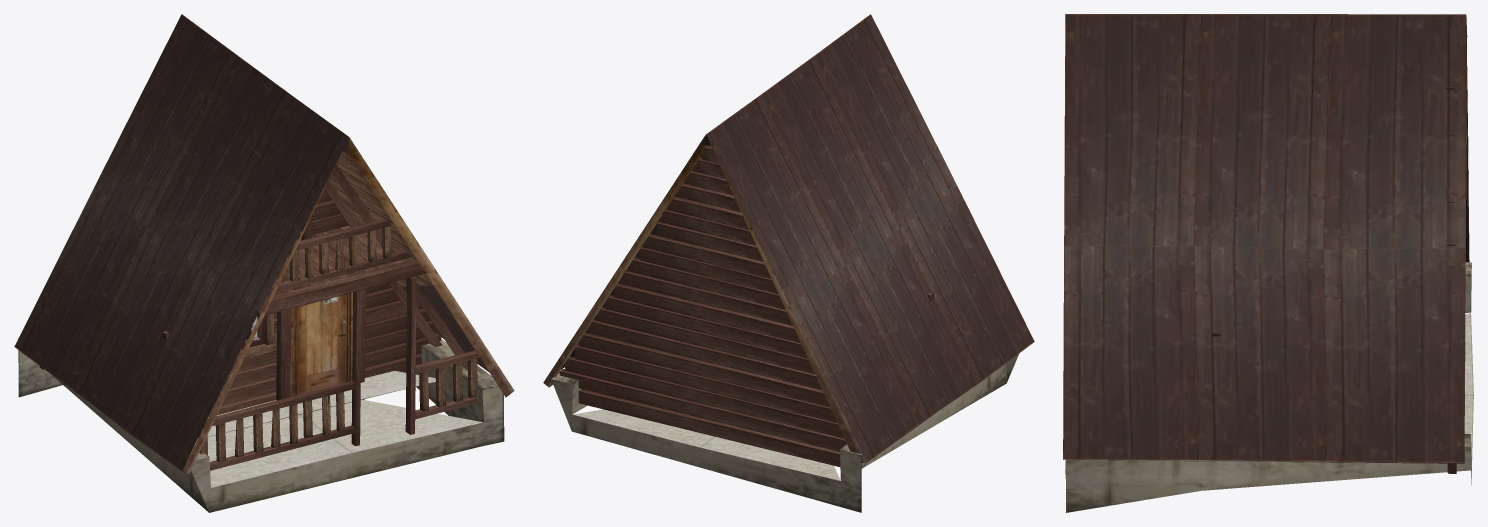
Rendered from forest-cabin.lod.glb.
The picture shows the model from 3 angles, left to right: view 1: azimuth 30°, elevation 25°; view 2: azimuth 150°, elevation 25°; view 3: azimuth 270°, elevation 25°; orthographic projection. The views are drawn at different scales.
Visible parts, largest first — view 1: Object_2; view 2: Object_2; view 3: Object_2.
Boxes of the visible parts, box(x1,y1,x2,y2) form: Object_2: box(14, 14, 514, 512); Object_2: box(543, 14, 1034, 512); Object_2: box(1063, 14, 1473, 512).
Size of the model in its own units: 2.08 by 2.06 by 1.86.
1 material, 1 textured.
